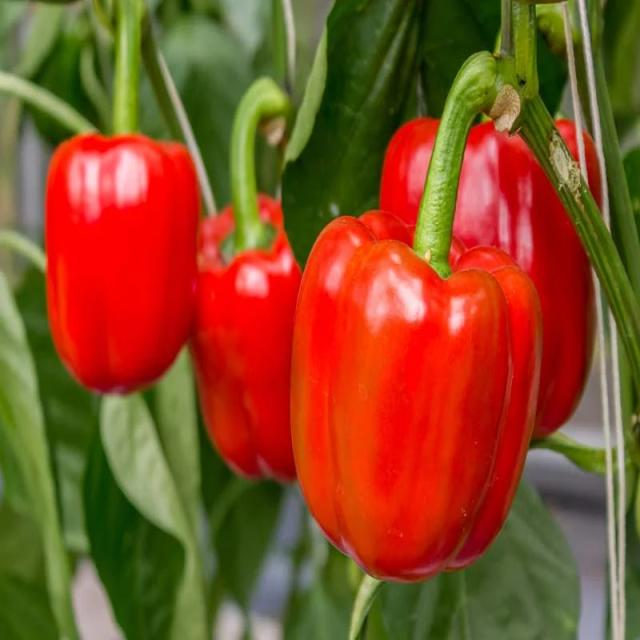Capsicum: (296, 108, 543, 586), (391, 112, 601, 459), (46, 105, 192, 393), (200, 194, 298, 490)
